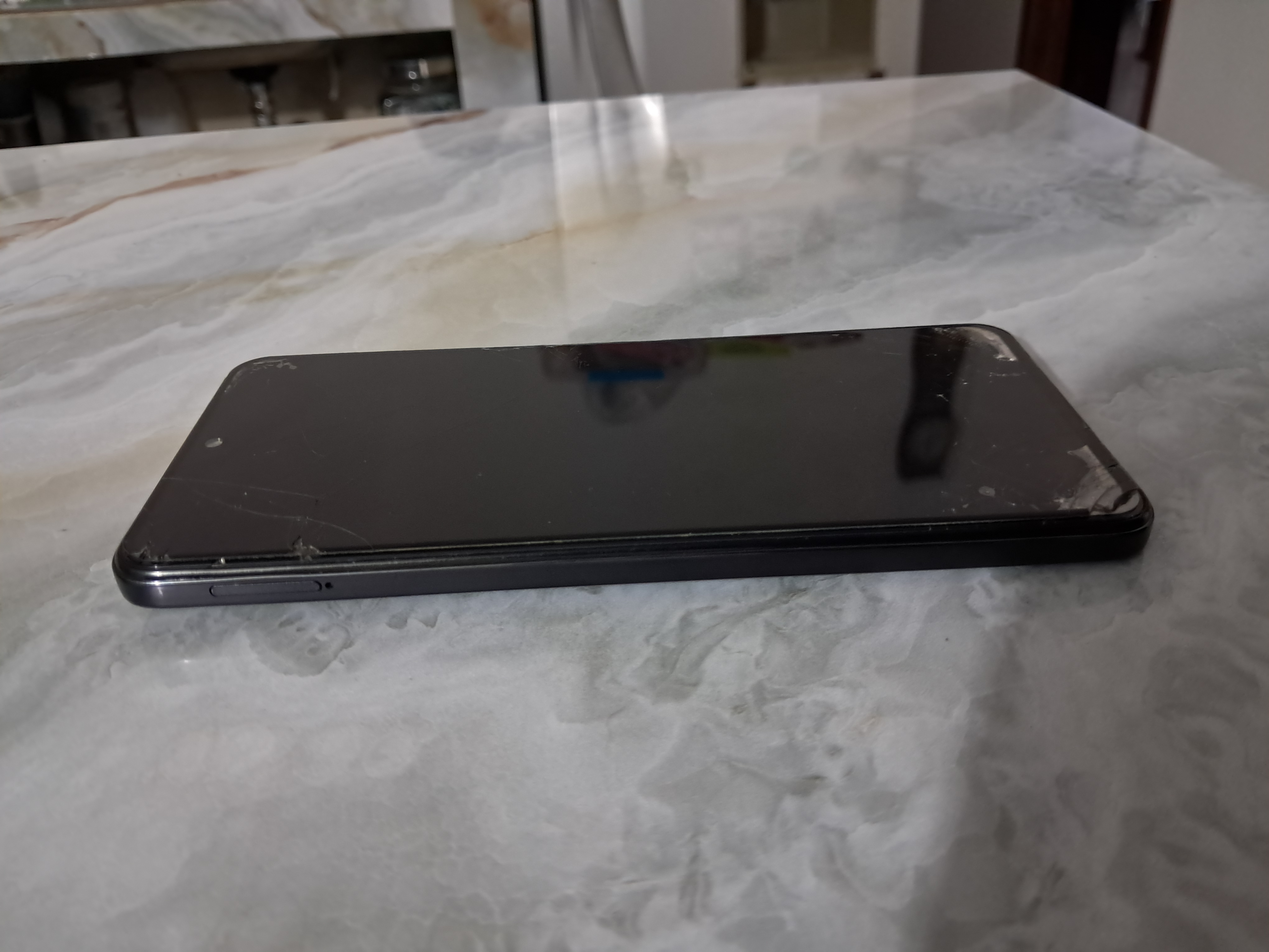phone: (114, 324, 1152, 607)
